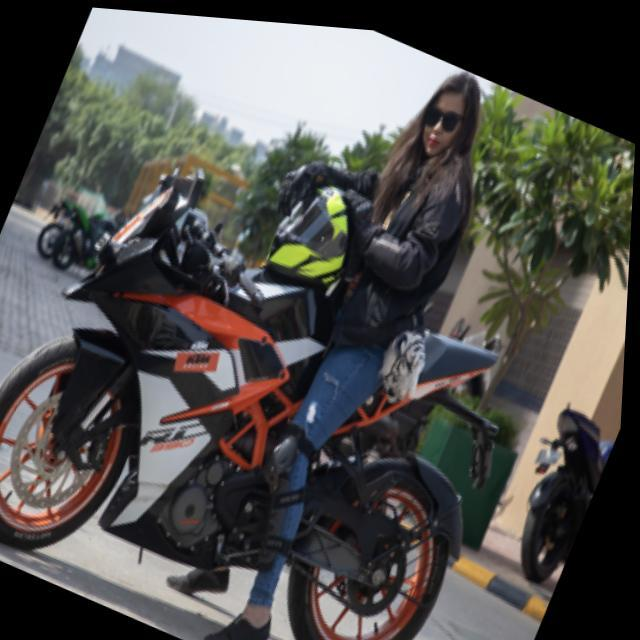Nonhelmet: (398, 65, 502, 180)
